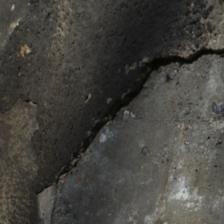Crack: (29, 67, 133, 129), (5, 83, 114, 137)
